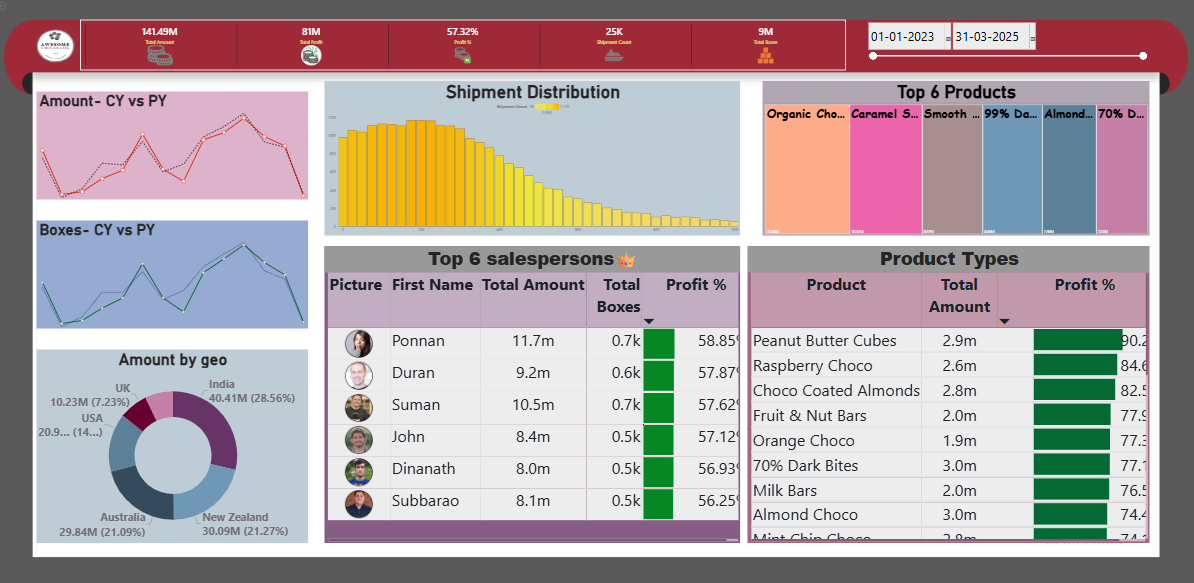

Layout of this report page (visuals, bound fields, positions):
{"tool":"powerbi","page":{"name":"BI report","canvas":[4000,1950],"ordinal":7},"visuals":[{"type":"lineChart","title":"Amount- CY vs PY","fields":{"Category":["calendar.Start of Month"],"Y":["shipments.Total Amount","shipments.Total amount (last year)"]},"box":[135,305,905,360],"z":0},{"type":"lineChart","title":"Boxes- CY vs PY","fields":{"Category":["calendar.Start of Month"],"Y":["shipments.Total Boxes","shipments.Total Boxes(last year)"]},"box":[135,735,905,360],"z":1000},{"type":"donutChart","title":"Amount by geo","fields":{"Category":["locations.Geo"],"Y":["shipments.Total Amount"]},"box":[135,1165,905,645],"z":2000},{"type":"columnChart","title":"Shipment Distribution","fields":{"Y":["shipments.Shipment Count"],"Category":["shipments.Boxes (bins)"]},"box":[1095,270,1385,515],"z":3000},{"type":"tableEx","title":"Top 6 salespersons👑","fields":{"Values":["people.Picture","people.First Name","shipments.Total Amount","shipments.Total Boxes","shipments.Profit %"]},"box":[1095,820,1385,990],"z":4000},{"type":"actionButton","box":[0,0,100,40],"z":5000},{"type":"treemap","title":"Top 6 Products","fields":{"Values":["shipments.Total Amount"],"Group":["products.Product"]},"box":[2555,270,1290,515],"z":6000},{"type":"tableEx","title":"Product Types","fields":{"Values":["products.Product","shipments.Total Amount","shipments.Profit %"]},"box":[2505,820,1340,990],"z":7000},{"type":"slicer","fields":{"Values":["calendar.cal_date"]},"box":[2895,65,950,170],"z":9000},{"type":"cardVisual","fields":{"Data":["shipments.Total Amount","shipments.Total Profit","shipments.Profit %","shipments.Shipment Count","shipments.Total Boxes"]},"box":[277.5,65,2555,170],"z":9001}]}

Visuals, with their boxes in screenshot pixels (x1, y1, x2, y2), scaled from the page's 4000x1950 canvas onto the 1194x583 screenshot:
"Amount- CY vs PY" lineChart: rect(40, 91, 310, 199)
"Boxes- CY vs PY" lineChart: rect(40, 220, 310, 327)
"Amount by geo" donutChart: rect(40, 348, 310, 541)
"Shipment Distribution" columnChart: rect(327, 81, 740, 235)
"Top 6 salespersons👑" tableEx: rect(327, 245, 740, 541)
actionButton: rect(0, 0, 30, 12)
"Top 6 Products" treemap: rect(763, 81, 1148, 235)
"Product Types" tableEx: rect(748, 245, 1148, 541)
slicer - calendar.cal_date: rect(864, 19, 1148, 70)
cardVisual - shipments.Total Amount x shipments.Total Profit: rect(83, 19, 846, 70)
